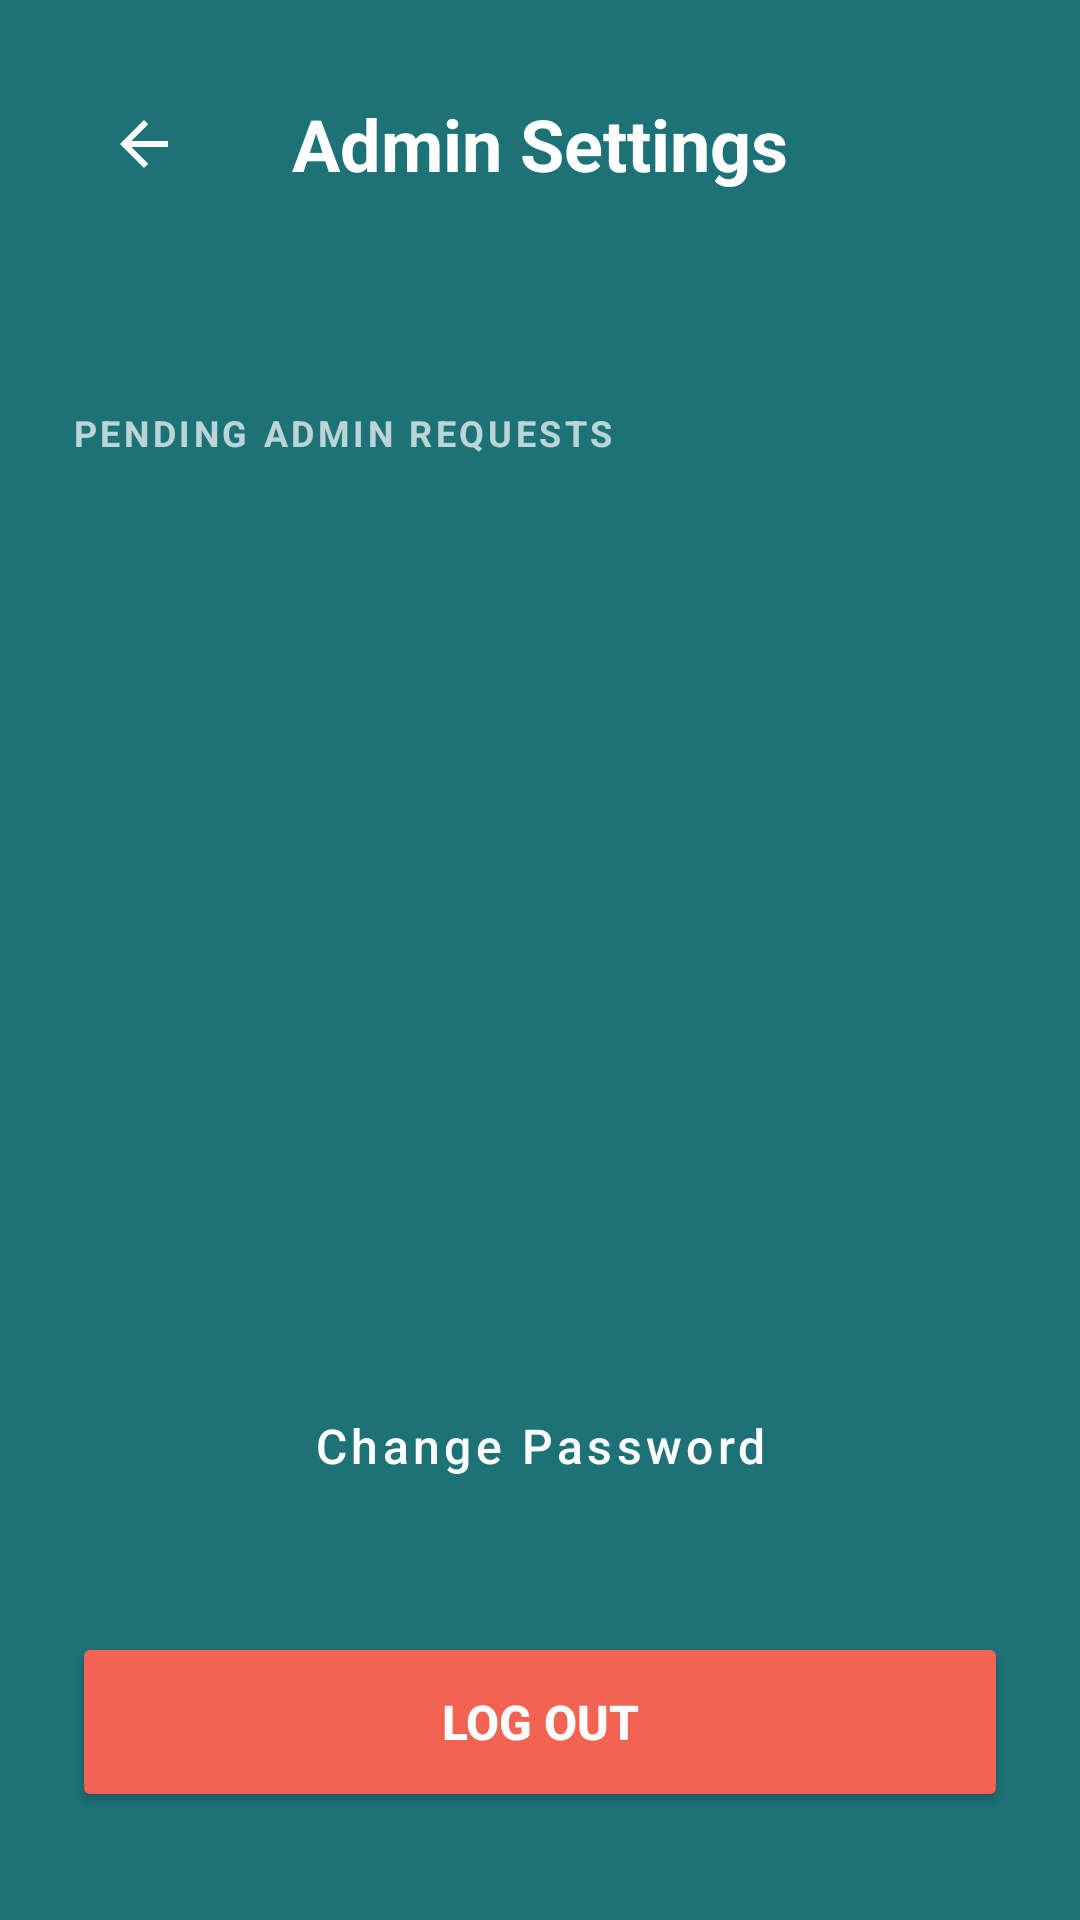

Locate icon controls on the screen. Image size 1080 x 1920, boxes as (x1, y1, x2, y2).
Back: (120, 120, 168, 168)
